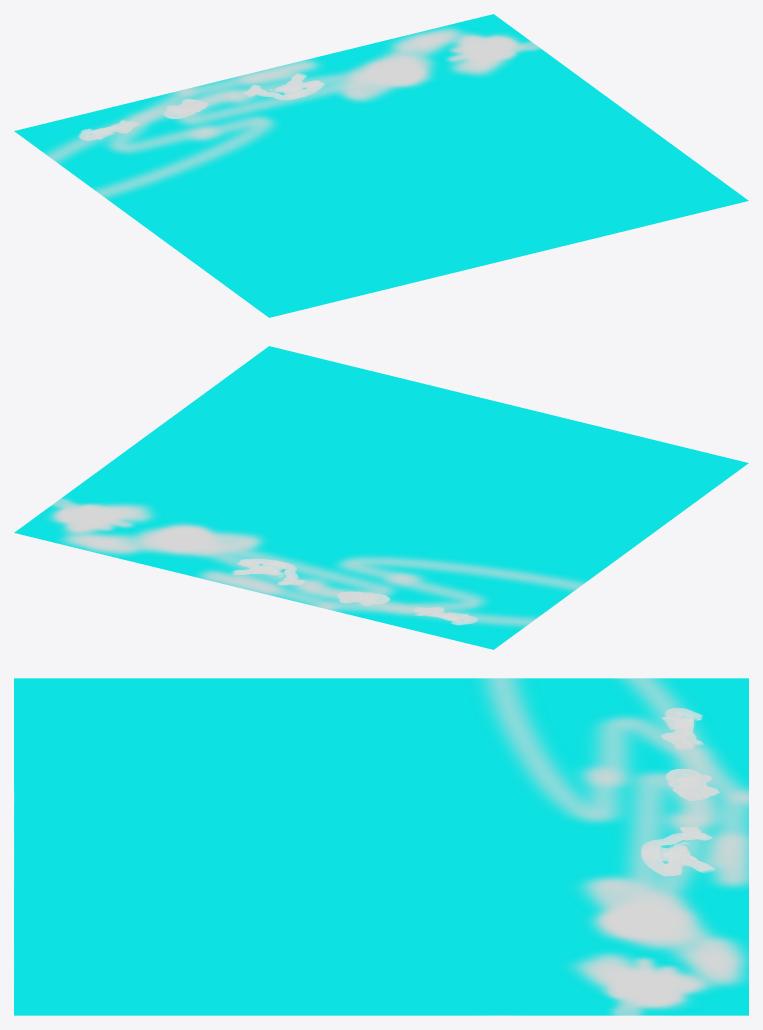
File: BackGround.FBX
3 renders of one model, top to bottom at view 1: azimuth 30°, elevation 25°; view 2: azimuth 150°, elevation 25°; view 3: azimuth 270°, elevation 25°, orthographic. The views are drawn at different scales.
Visible parts, largest first — view 1: Plane001; view 2: Plane001; view 3: Plane001.
Part boxes in pixels (<box>): Plane001: <box>14,14,748,317</box>; Plane001: <box>14,346,748,649</box>; Plane001: <box>14,678,748,1015</box>.
Size of the model in its own units: 216 by 199 by 0.
